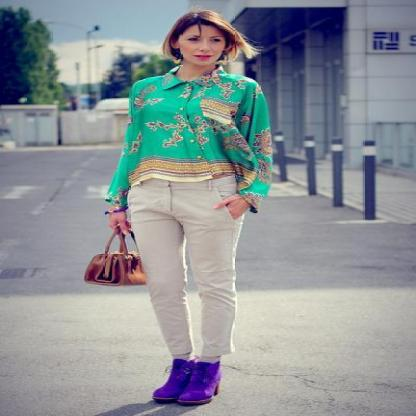bag: (84, 208, 147, 286)
pants: (126, 174, 248, 364)
shirt: (105, 65, 287, 208)
shoe: (153, 358, 219, 405)
